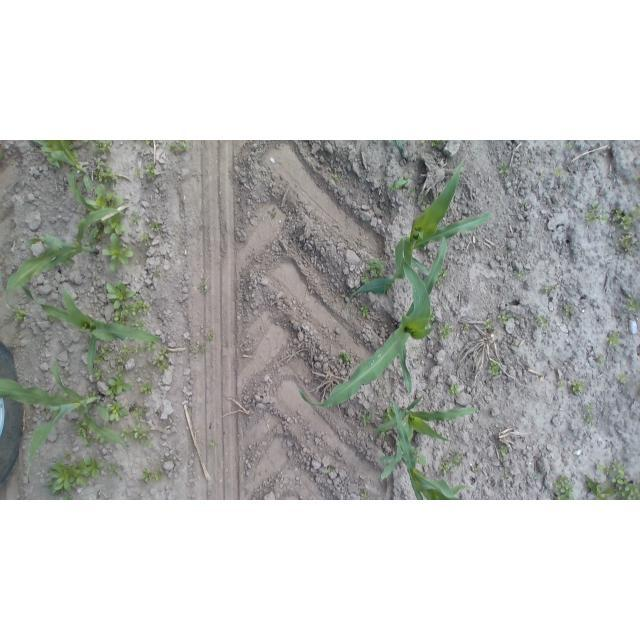Maize: (296, 235, 448, 407), (347, 157, 492, 310), (0, 359, 130, 478), (5, 207, 129, 321), (21, 285, 162, 381), (371, 395, 477, 481), (390, 398, 474, 500), (33, 140, 100, 210), (391, 180, 407, 195), (395, 141, 404, 158)
Weeds: (45, 456, 103, 494), (106, 279, 150, 329), (596, 458, 639, 500), (103, 232, 134, 272), (584, 476, 613, 501), (95, 158, 120, 185), (106, 375, 132, 400), (583, 203, 609, 226), (441, 450, 464, 475), (554, 473, 575, 500), (130, 427, 154, 449), (614, 234, 638, 253), (154, 347, 171, 373), (613, 209, 632, 230), (366, 258, 385, 277), (605, 329, 623, 348), (104, 220, 127, 234), (95, 344, 111, 364), (584, 401, 597, 425), (413, 445, 427, 466), (92, 140, 113, 154), (360, 409, 375, 428), (440, 323, 453, 344), (570, 378, 586, 395), (626, 293, 640, 311), (488, 357, 502, 375), (75, 421, 89, 438), (139, 381, 155, 395), (498, 310, 511, 327), (382, 404, 395, 421), (140, 232, 153, 249), (536, 314, 548, 330), (134, 407, 143, 428), (196, 284, 213, 295), (338, 352, 352, 365), (145, 164, 155, 181), (108, 462, 120, 476), (190, 344, 205, 355), (448, 383, 460, 396), (440, 267, 451, 281), (130, 211, 141, 225), (141, 467, 151, 482), (178, 141, 191, 152), (359, 303, 369, 317), (120, 425, 128, 442), (499, 162, 510, 174), (83, 437, 95, 448), (95, 368, 106, 380), (596, 355, 606, 368), (541, 283, 552, 294), (561, 304, 572, 315), (14, 310, 25, 321), (266, 208, 278, 218), (482, 318, 493, 328), (152, 469, 163, 479), (151, 221, 162, 231), (146, 341, 157, 351), (116, 355, 127, 365), (558, 379, 567, 391), (632, 206, 640, 219), (499, 444, 507, 457), (553, 165, 563, 175), (617, 373, 627, 383), (152, 268, 162, 278), (121, 344, 131, 354), (362, 274, 373, 283), (538, 170, 546, 182), (419, 193, 427, 205), (461, 322, 470, 332), (361, 489, 369, 500), (430, 140, 441, 148), (114, 370, 125, 378), (429, 307, 435, 321), (95, 228, 102, 240), (209, 440, 218, 449), (205, 332, 214, 341), (529, 474, 540, 481), (436, 282, 445, 290), (381, 430, 390, 438), (162, 455, 174, 461), (64, 451, 72, 460), (169, 144, 178, 152), (85, 391, 99, 396), (408, 188, 415, 198), (519, 270, 526, 279), (62, 495, 74, 500), (135, 343, 141, 353), (96, 437, 104, 444), (333, 174, 340, 182), (502, 474, 509, 481), (471, 465, 478, 472), (566, 141, 574, 147), (328, 465, 334, 473), (135, 168, 141, 176), (347, 220, 352, 228), (145, 141, 153, 146), (45, 315, 51, 321), (143, 406, 148, 413), (555, 283, 560, 289), (522, 201, 527, 206), (635, 176, 640, 181), (505, 249, 511, 253), (207, 490, 211, 495), (83, 141, 89, 144), (511, 342, 515, 346), (421, 141, 426, 144)
